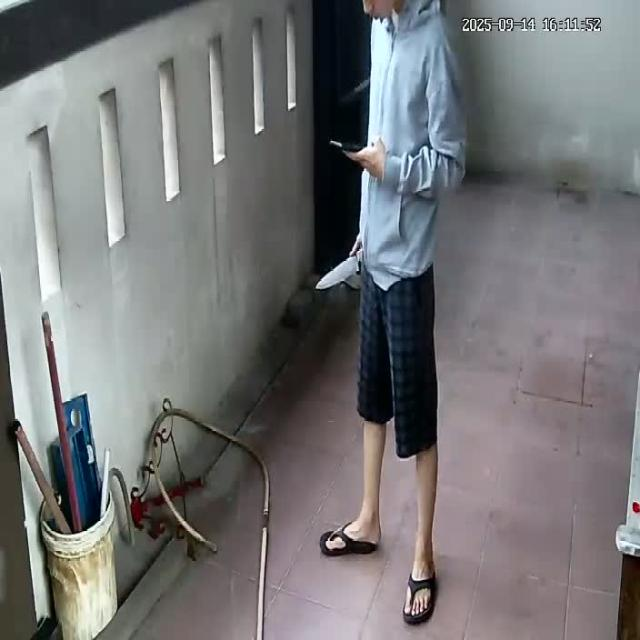senjata_tajam: (315, 254, 361, 291)
